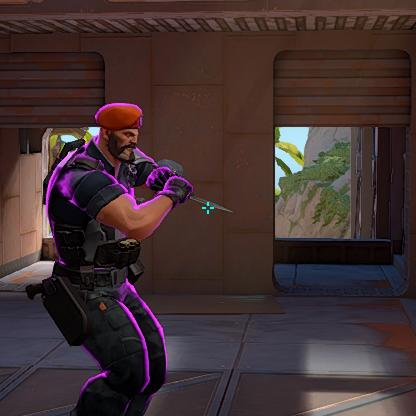enemyBody: (58, 161, 129, 271)
enemyHead: (106, 115, 133, 156)
